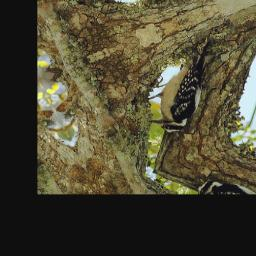Woodpecker: (122, 37, 249, 143)
